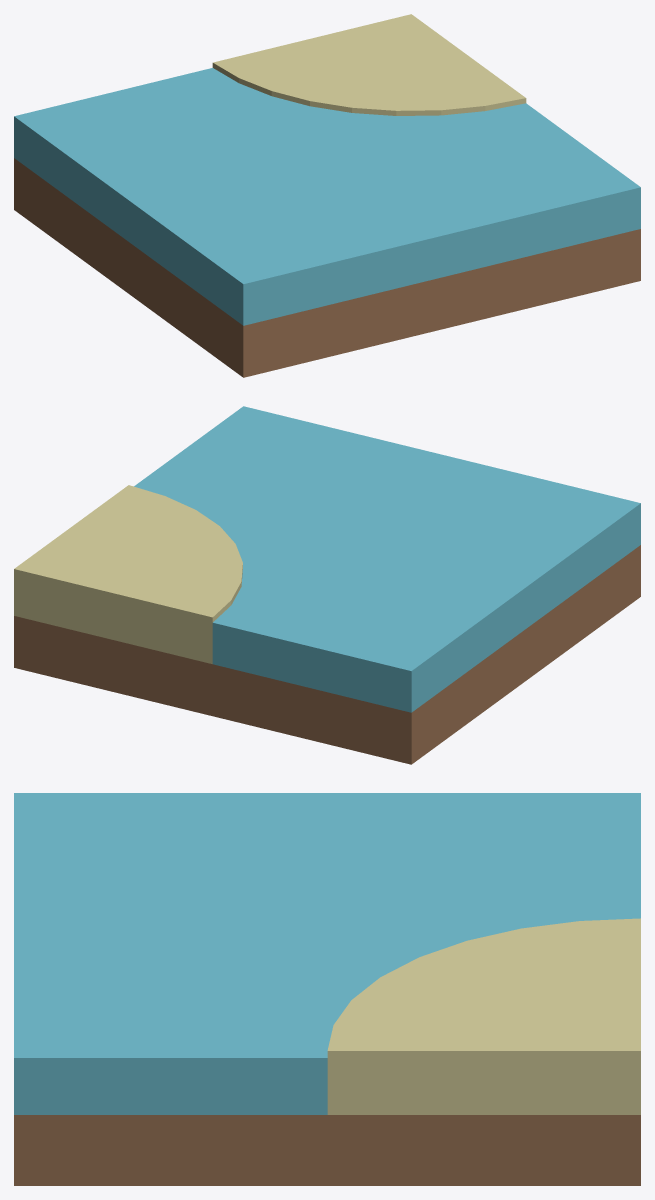
The model's file is water-beach-convex.obj.
3 views of the same model, one above another, from view 1: azimuth 30°, elevation 25°; view 2: azimuth 150°, elevation 25°; view 3: azimuth 270°, elevation 25° (orthographic). The views are drawn at different scales.
Visible parts, largest first — view 1: water-beach-convex_Cube.503; view 2: water-beach-convex_Cube.503; view 3: water-beach-convex_Cube.503.
Boxes of the visible parts, left/top/right/bottom form: water-beach-convex_Cube.503: left=14, top=14, right=640, bottom=377; water-beach-convex_Cube.503: left=14, top=406, right=640, bottom=764; water-beach-convex_Cube.503: left=14, top=793, right=640, bottom=1185.
Bounding box in the file's own units: 8 × 1.9 × 8.
1 material, 1 textured.
